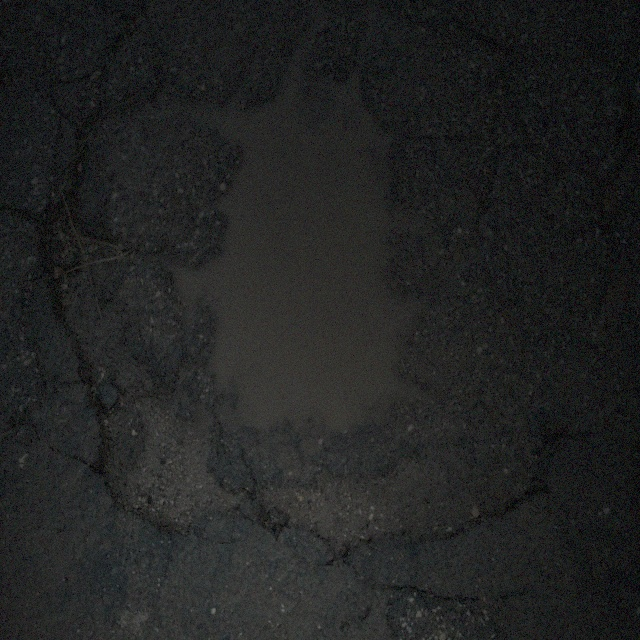pothole: (40, 60, 463, 580)
